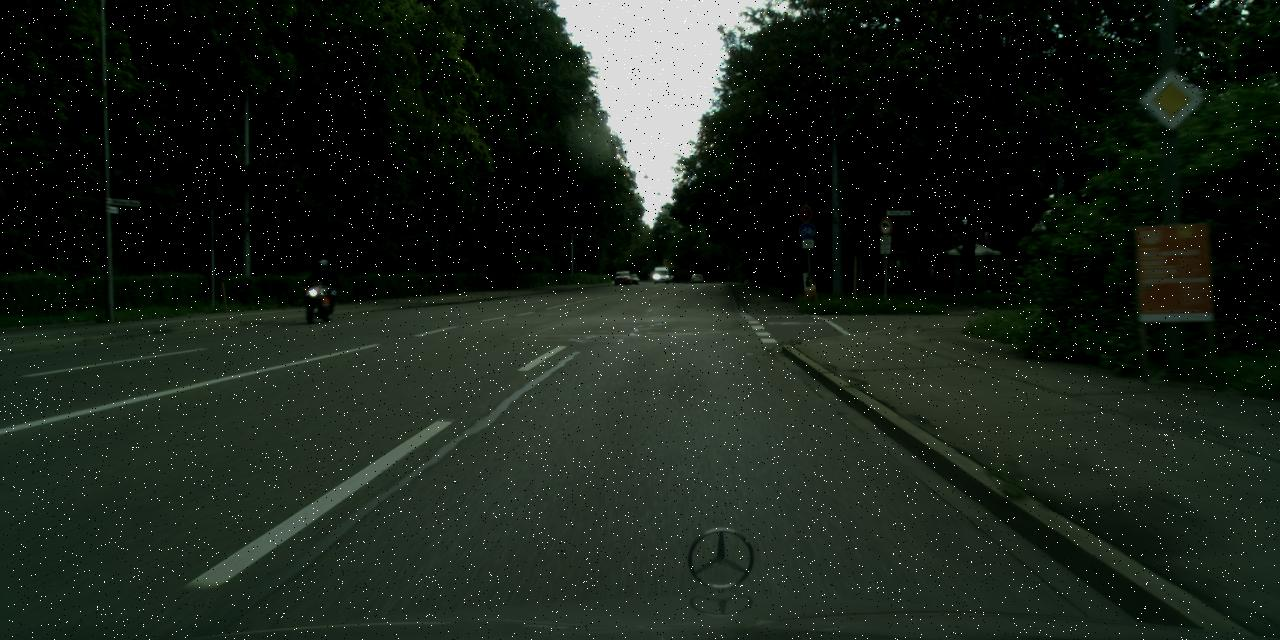ped: (310, 259, 332, 315)
